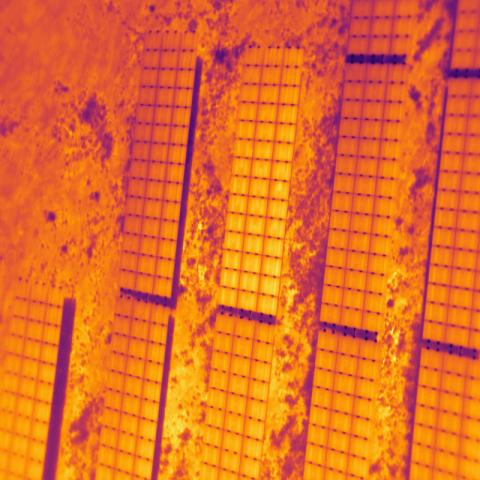fault: (269, 179, 291, 203)
